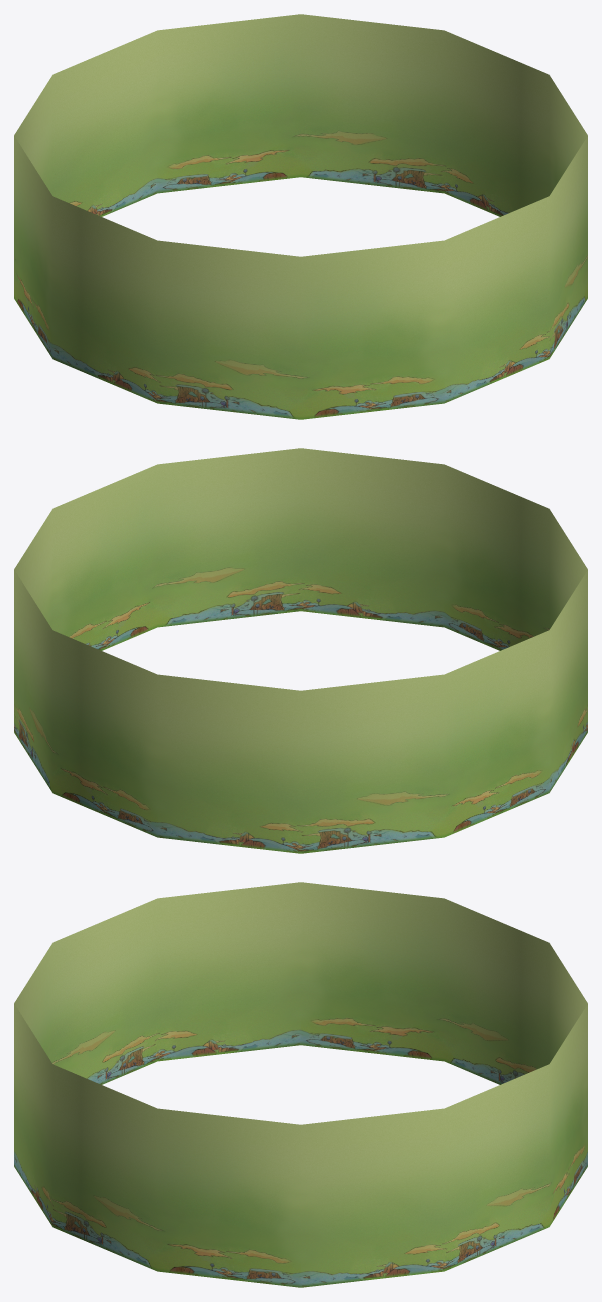
Rendered from nmkxtian.FBX.
The picture shows the model from 3 angles, top to bottom: view 1: azimuth 30°, elevation 25°; view 2: azimuth 150°, elevation 25°; view 3: azimuth 270°, elevation 25°; orthographic projection.
Parts seen in each view (by area): view 1: Cylinder017; view 2: Cylinder017; view 3: Cylinder017.
Part boxes in pixels (box(x1,y1,x2,y2)): Cylinder017: box(14, 14, 587, 419); Cylinder017: box(14, 448, 587, 853); Cylinder017: box(14, 882, 587, 1287).
Size of the model in its own units: 72510 by 22728 by 72510.
